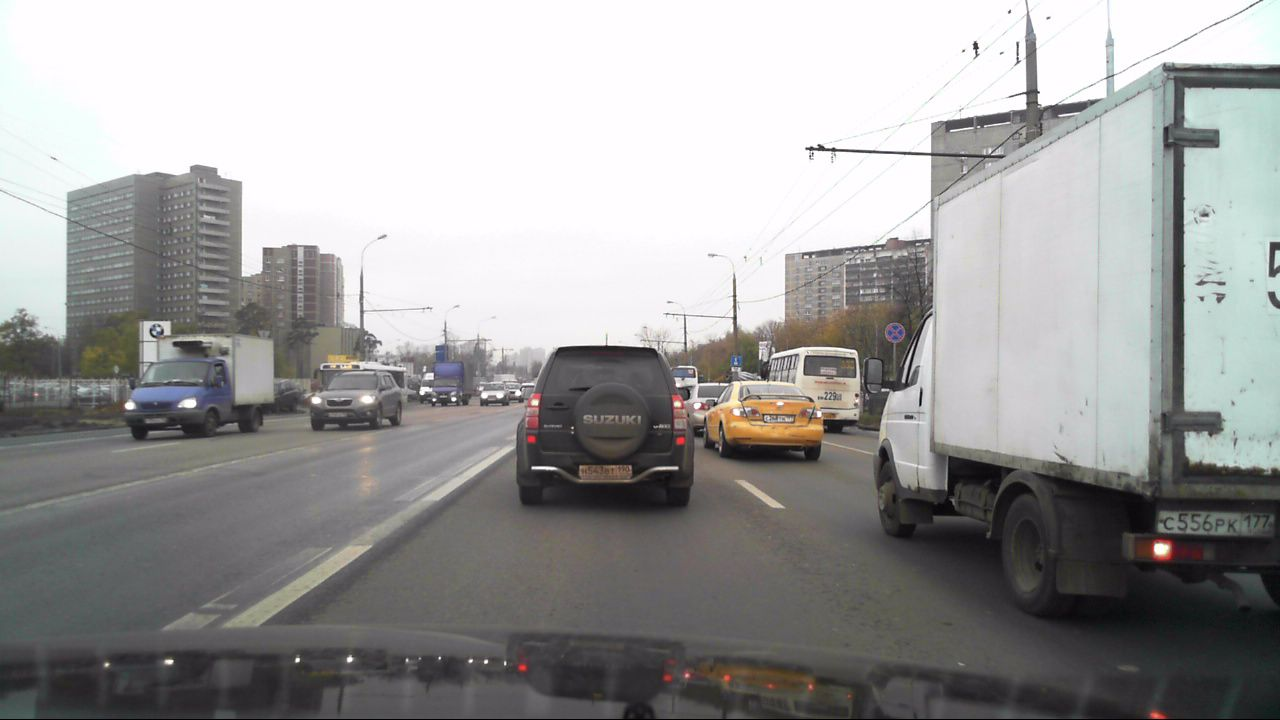No Parking: (884, 322, 905, 342)
